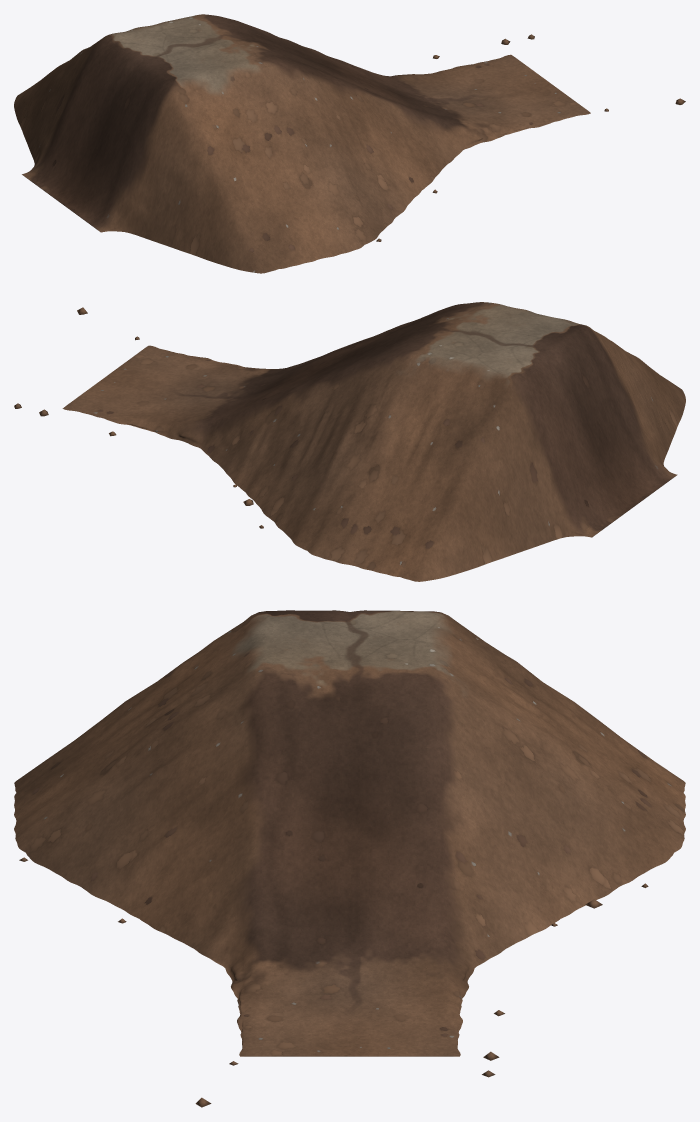
Rendered from DR_Prop_TrickLanding.fbx.
3 renders of one model, top to bottom at view 1: azimuth 30°, elevation 25°; view 2: azimuth 150°, elevation 25°; view 3: azimuth 270°, elevation 25°, orthographic. The views are drawn at different scales.
Visible parts, largest first — view 1: DR_Prop_TrickLanding; view 2: DR_Prop_TrickLanding; view 3: DR_Prop_TrickLanding.
Part boxes in pixels (x1=…): DR_Prop_TrickLanding: x1=14, y1=14, x2=685, y2=273; DR_Prop_TrickLanding: x1=14, y1=302, x2=685, y2=581; DR_Prop_TrickLanding: x1=14, y1=610, x2=685, y2=1107.
Bounding box in the file's own units: 3.82 × 0.803 × 2.84.
Materials: 1 (1 with a texture image).
